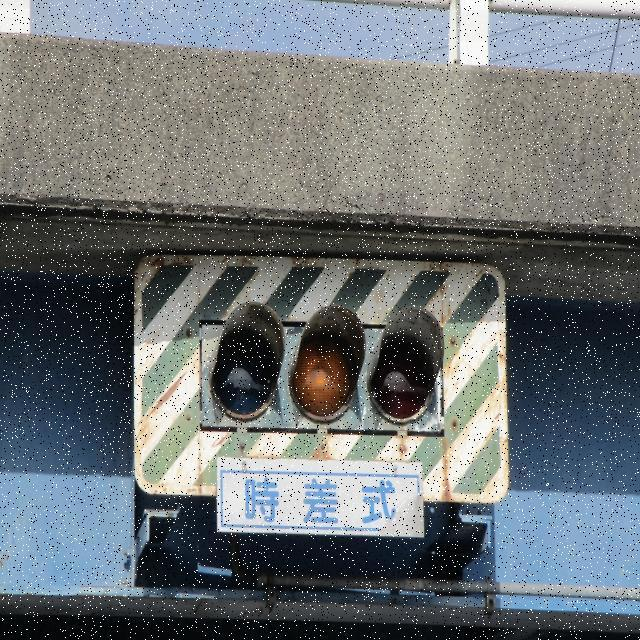yellow_light: (294, 296, 368, 428)
